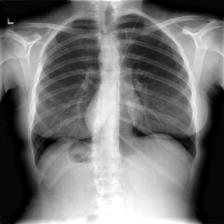normal: (26, 9, 202, 178)
